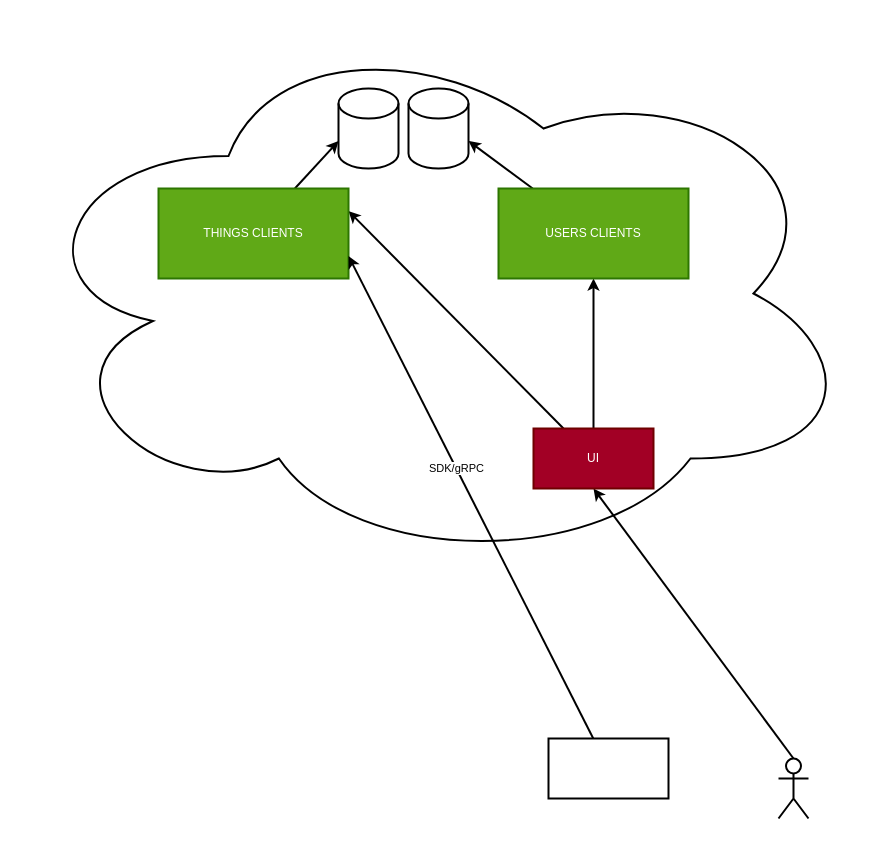
This 876x856 diagram has some shape labels left out. The shapes that lost their labels are listed below. From the top down, each one's box as (x1, y1, x2, y2) in pixels, then its label:
(547, 737, 669, 799): CUSTOM SVC
(777, 757, 809, 819): User
